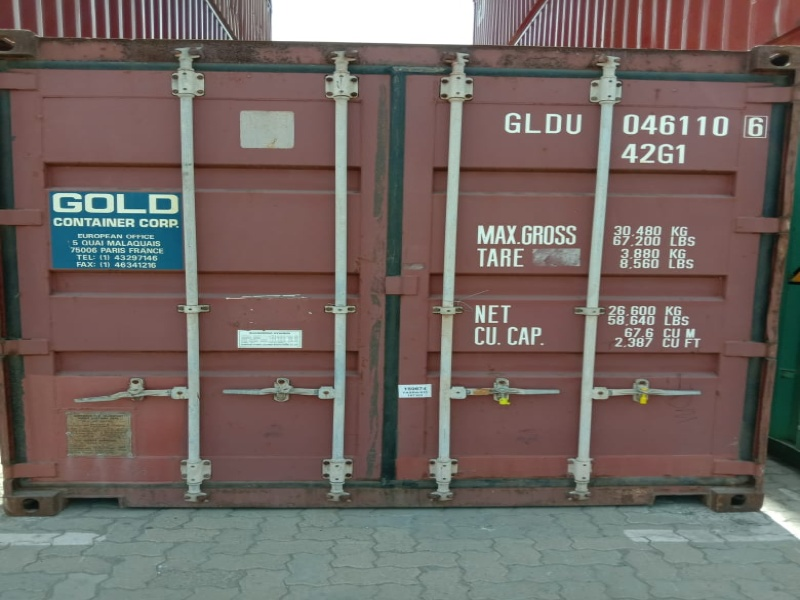iso: (620, 141, 695, 170)
mgw: (467, 217, 702, 247)
serial: (496, 103, 770, 139)
